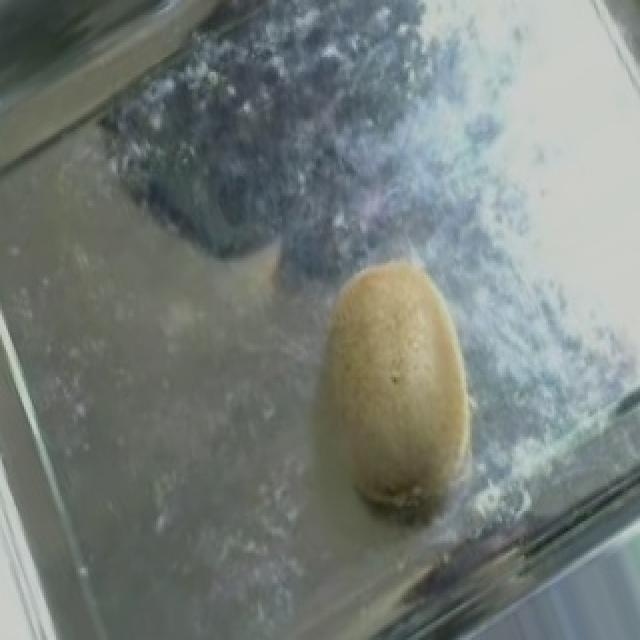Fruit: (266, 234, 516, 534)
